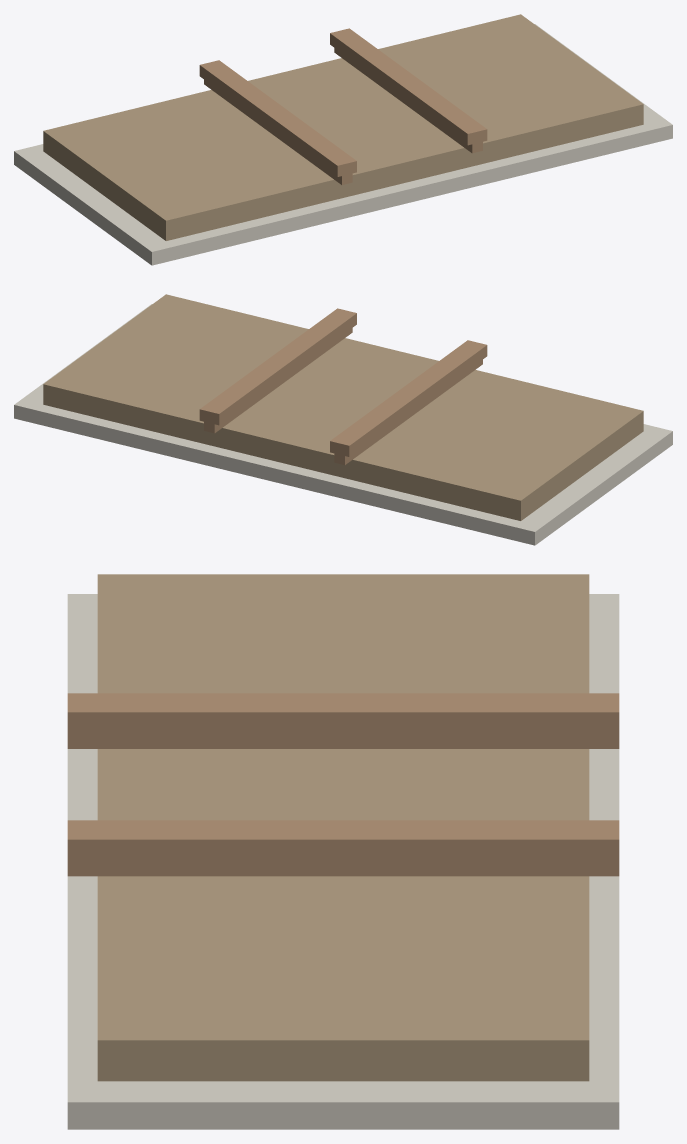
The model's file is trench-line-1917-light-rail-track-941412e6__24118.glb.
3 renders of one model, top to bottom at view 1: azimuth 30°, elevation 25°; view 2: azimuth 150°, elevation 25°; view 3: azimuth 270°, elevation 25°, orthographic. The views are drawn at different scales.
Visible parts, largest first — view 1: light-rail-track; view 2: light-rail-track; view 3: light-rail-track.
Part boxes in pixels (<box>): light-rail-track: <box>14,14,672,265</box>; light-rail-track: <box>14,294,672,545</box>; light-rail-track: <box>67,574,619,1129</box>.
Size of the model in its own units: 2.4 by 0.24 by 1.1.
